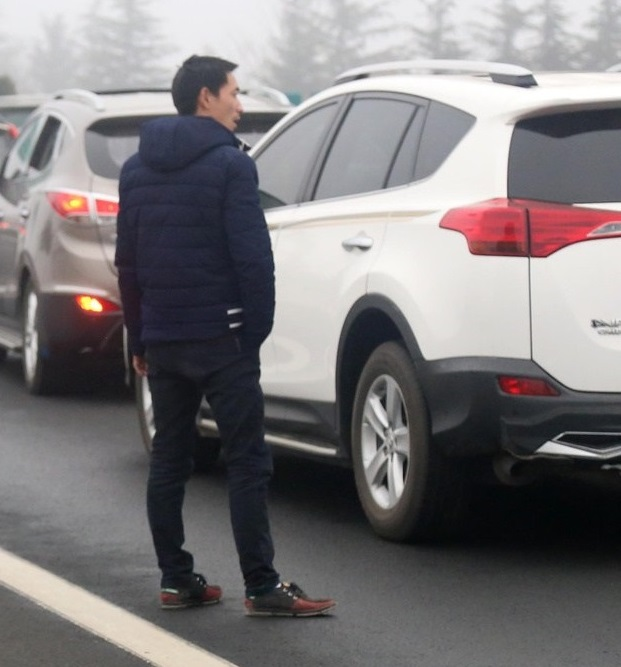person: (114, 53, 338, 621)
